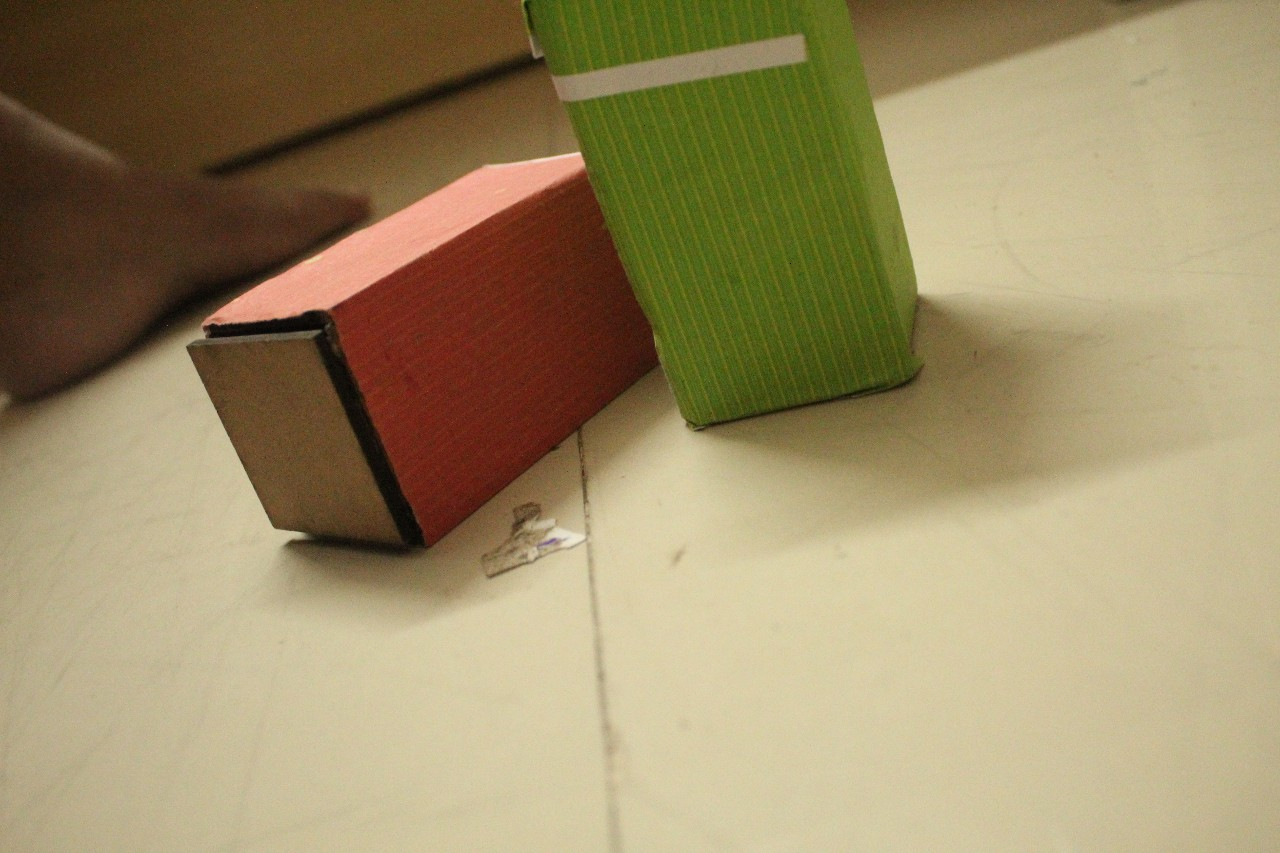green: (502, 0, 942, 471)
